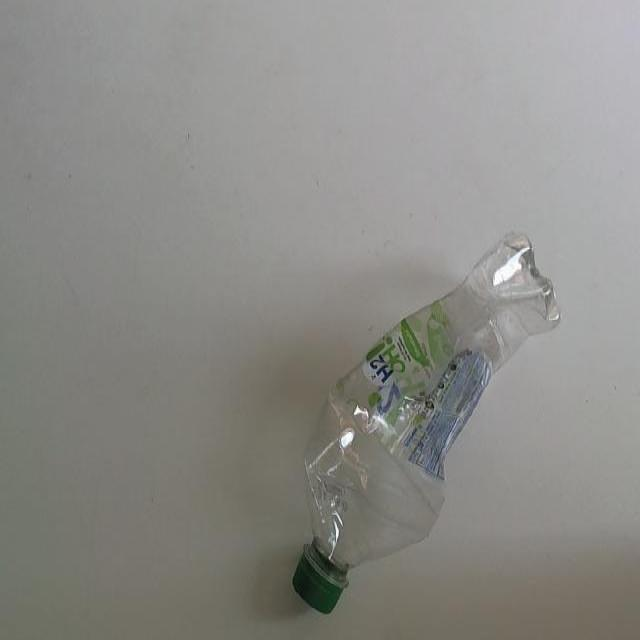defect: (289, 228, 565, 618)
